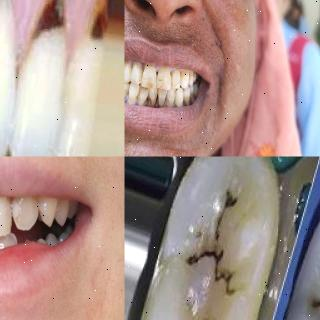calculus: (148, 90, 160, 110), (156, 91, 168, 109)
cavities: (164, 190, 249, 320), (89, 0, 113, 39), (38, 0, 67, 32)
stains: (139, 84, 149, 107), (146, 75, 156, 92), (167, 91, 176, 109), (156, 77, 168, 89), (182, 94, 192, 106), (130, 92, 140, 102), (188, 88, 196, 100), (132, 60, 140, 70), (124, 57, 130, 69), (172, 66, 182, 72), (182, 69, 190, 75)
